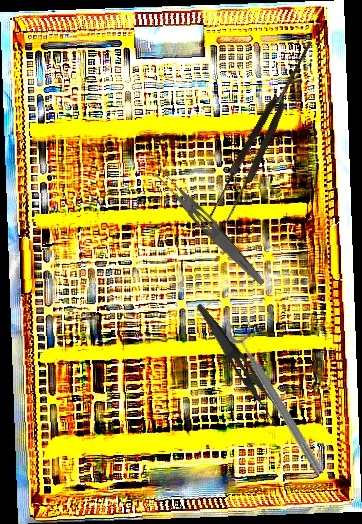Dressing Forceps: (150, 164, 271, 289), (183, 302, 293, 429)
Fixation Ring: (221, 313, 337, 479)
Tissue Forceps: (206, 35, 323, 227)
